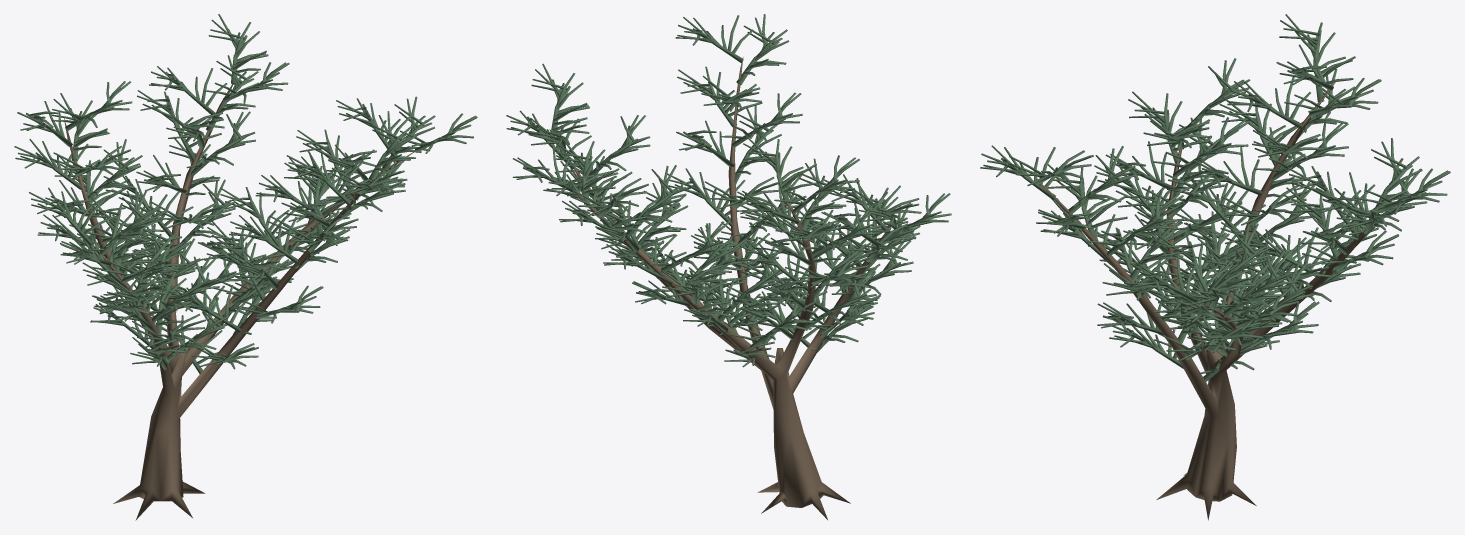
Rendered from Genevrier_2_Niveau1.fbx.
The picture shows the model from 3 angles, left to right: view 1: azimuth 30°, elevation 25°; view 2: azimuth 150°, elevation 25°; view 3: azimuth 270°, elevation 25°; orthographic projection. The views are drawn at different scales.
Visible parts, largest first — view 1: Genevrier_2_Niveau1_Jeu; view 2: Genevrier_2_Niveau1_Jeu; view 3: Genevrier_2_Niveau1_Jeu.
Part boxes in pixels (x1=…): Genevrier_2_Niveau1_Jeu: x1=14, y1=14, x2=477, y2=520; Genevrier_2_Niveau1_Jeu: x1=506, y1=14, x2=951, y2=519; Genevrier_2_Niveau1_Jeu: x1=980, y1=14, x2=1450, y2=520.
Size of the model in its own units: 221 by 200 by 195.
